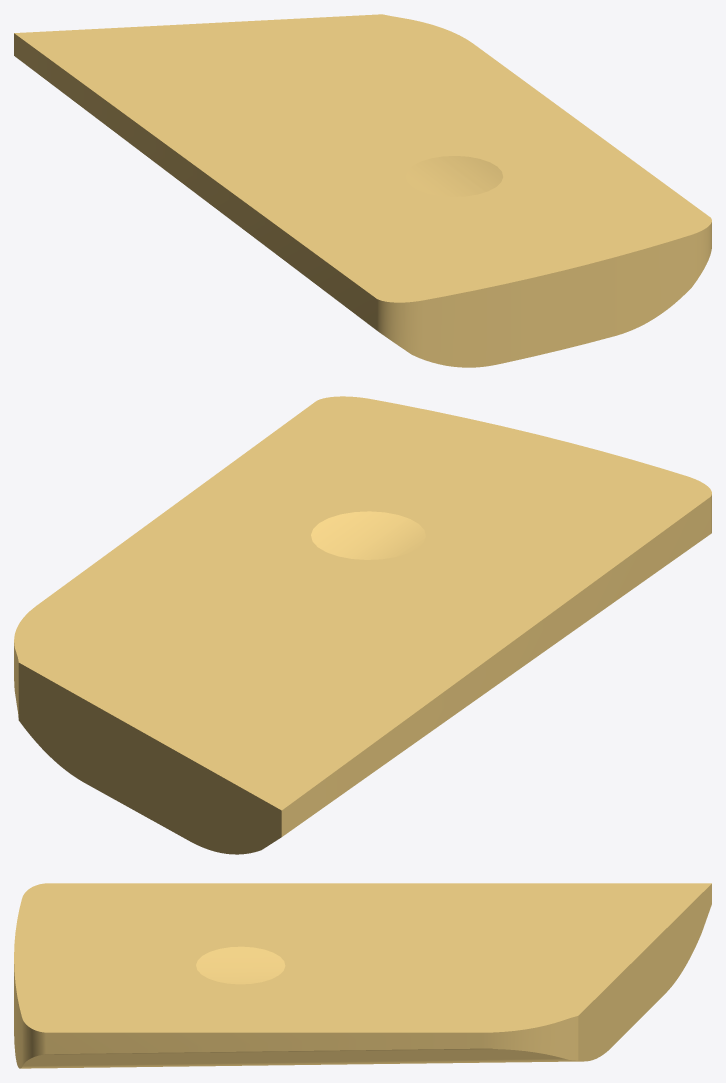
Rendered from original-42.obj.
3 views of the same model, one above another, from view 1: azimuth 30°, elevation 25°; view 2: azimuth 150°, elevation 25°; view 3: azimuth 270°, elevation 25° (orthographic). The views are drawn at different scales.
Visible parts, largest first — view 1: #ID199; view 2: #ID199; view 3: #ID199.
Part boxes in pixels (bbox=[...]): #ID199: bbox=[14, 14, 711, 367]; #ID199: bbox=[14, 396, 711, 854]; #ID199: bbox=[14, 883, 711, 1068].
Bounding box in the file's own units: 0.161 × 0.0364 × 0.318.
